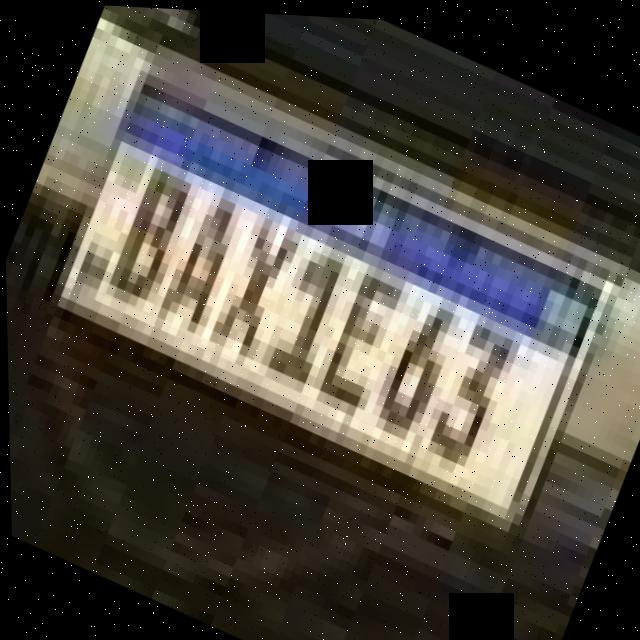1: (252, 236, 359, 393)
3: (410, 301, 529, 473)
6: (356, 280, 473, 445)
A: (153, 185, 254, 340)
B: (97, 148, 209, 318)
E: (305, 256, 418, 418)
X: (196, 197, 308, 366)
